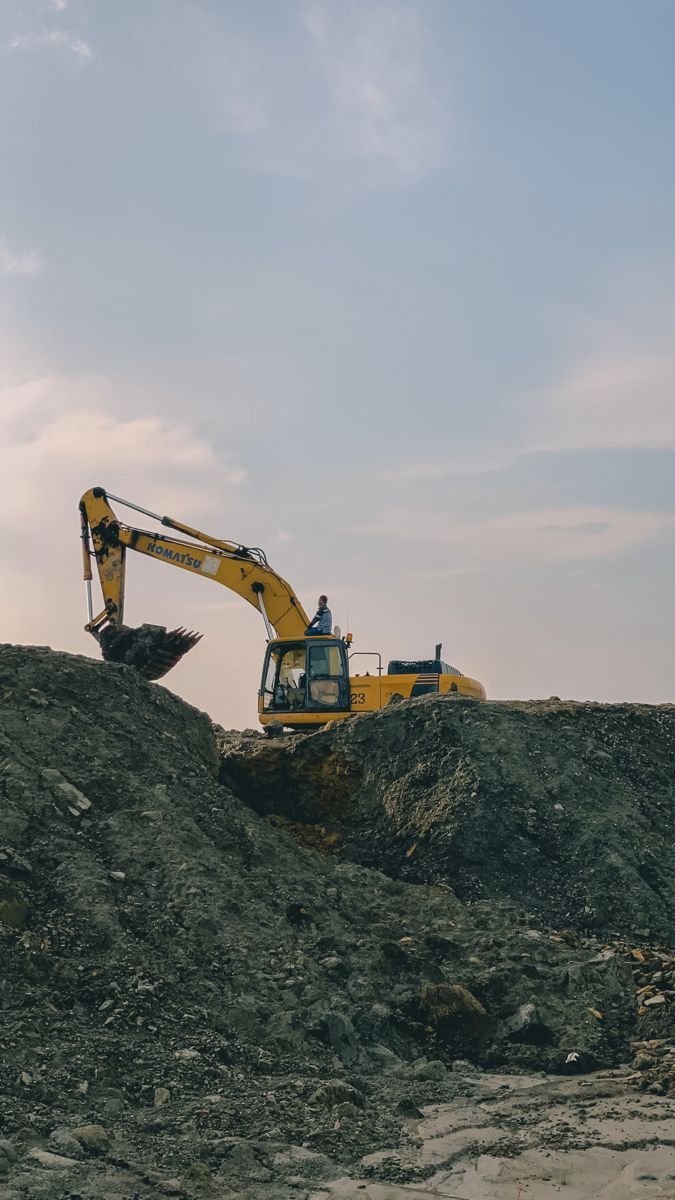excavator: (43, 448, 527, 770)
person: (298, 595, 337, 654)
